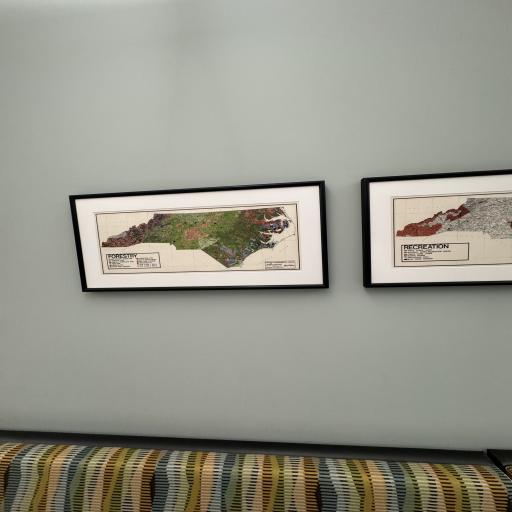bench: (4, 422, 512, 506)
poster: (69, 189, 324, 293), (356, 174, 512, 288)
